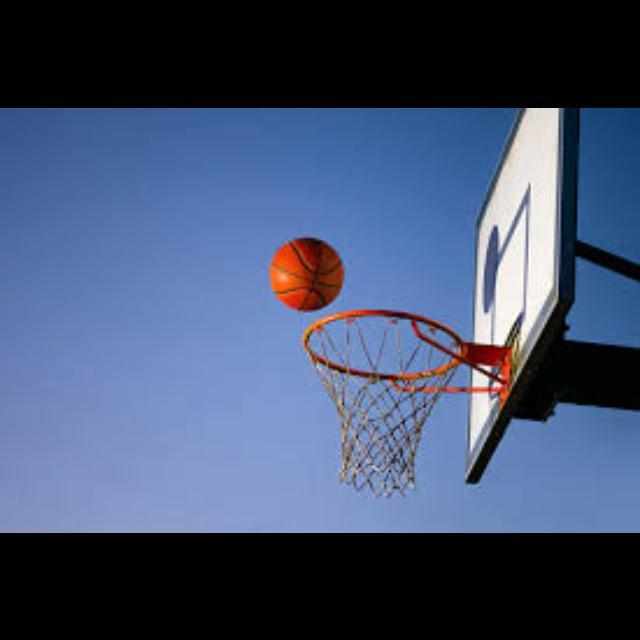basketball: (268, 236, 344, 310)
rim: (304, 309, 464, 485)
